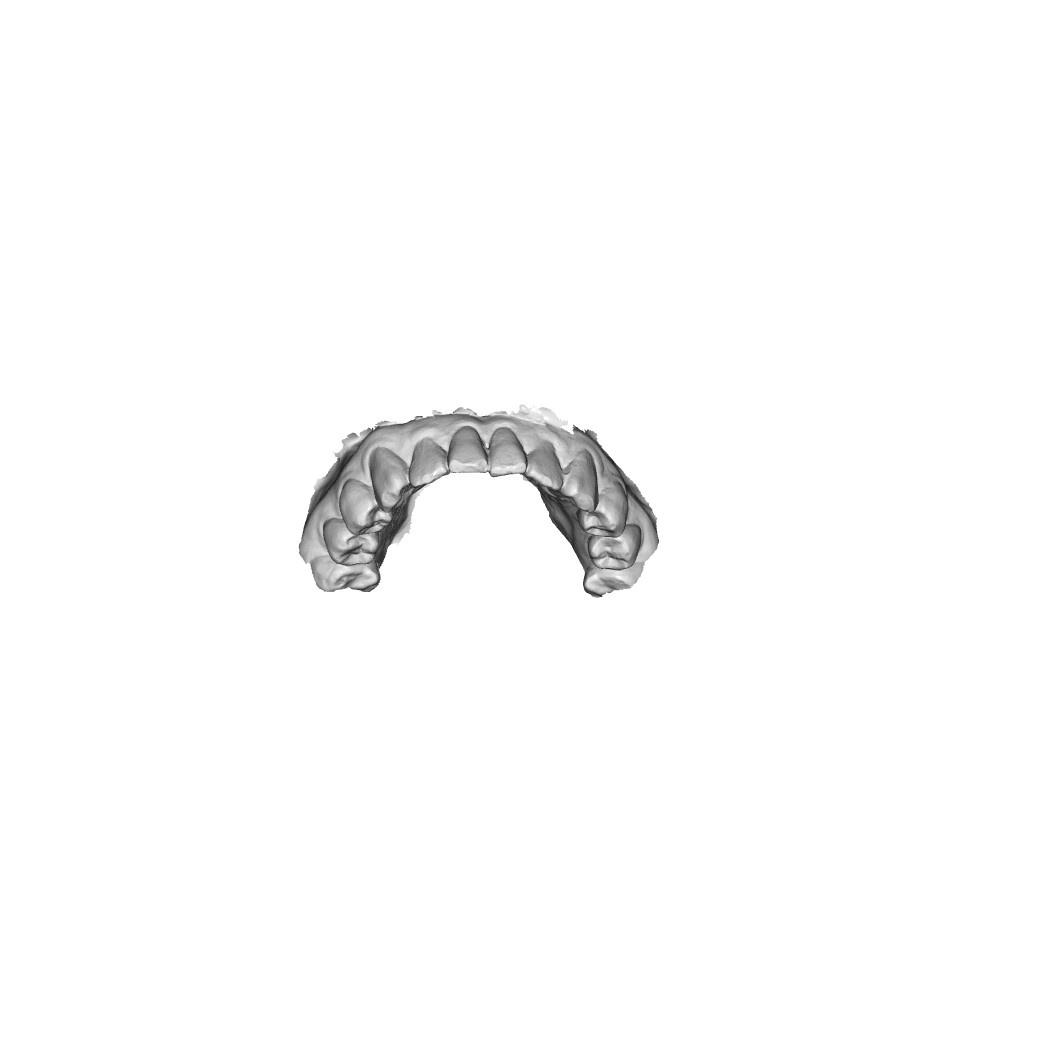canine: (367, 445, 412, 513), (557, 452, 602, 512)
incisor: (488, 424, 528, 480), (445, 422, 486, 476), (411, 437, 451, 488), (527, 443, 563, 495)
premolar: (320, 518, 385, 567), (339, 483, 396, 533), (584, 527, 642, 571), (581, 488, 631, 538)
